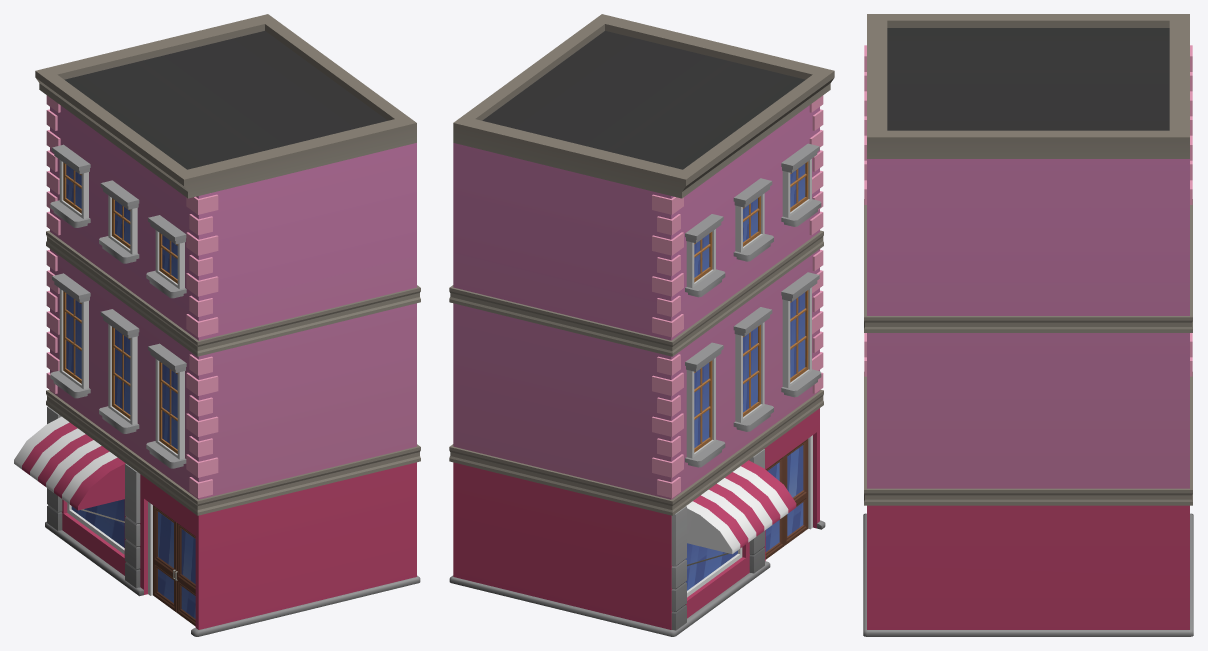
Rendered from Building_8_1_S.glb.
3 views of the same model, side by side, from view 1: azimuth 30°, elevation 25°; view 2: azimuth 150°, elevation 25°; view 3: azimuth 270°, elevation 25° (orthographic). The views are drawn at different scales.
Parts seen in each view (by area): view 1: Building 8_1_S; view 2: Building 8_1_S; view 3: Building 8_1_S.
Part boxes in pixels (x1,y1,x2,y2): Building 8_1_S: [14, 14, 420, 636]; Building 8_1_S: [449, 14, 834, 636]; Building 8_1_S: [863, 14, 1193, 636].
Bounding box in the file's own units: 6.81 × 11.08 × 6.67.
Materials: 3 (3 with a texture image).
